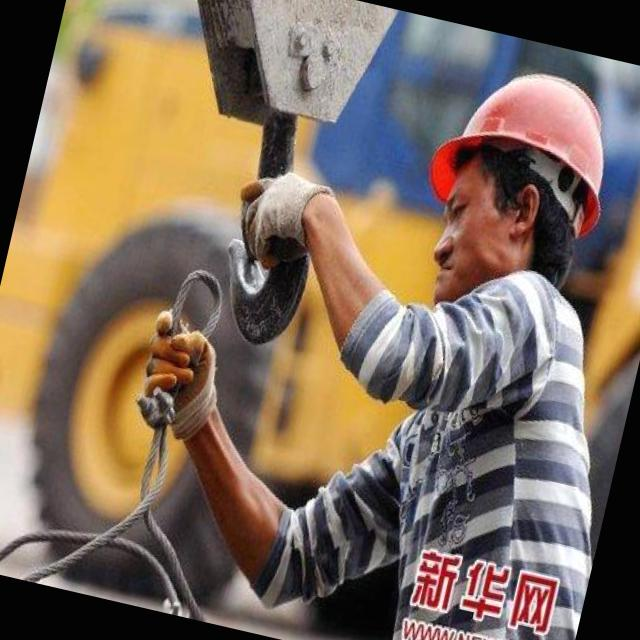helmet: (416, 45, 634, 236)
no-vest: (309, 246, 640, 640)
